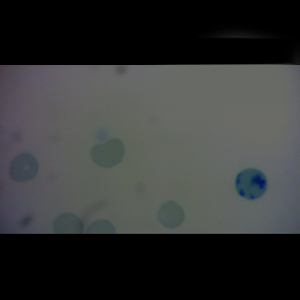aggregate reticulocyte: (234, 168, 269, 200)
erythrocyte: (9, 152, 40, 183), (156, 200, 187, 230)
punctate reticulocyte: (90, 137, 125, 169)
